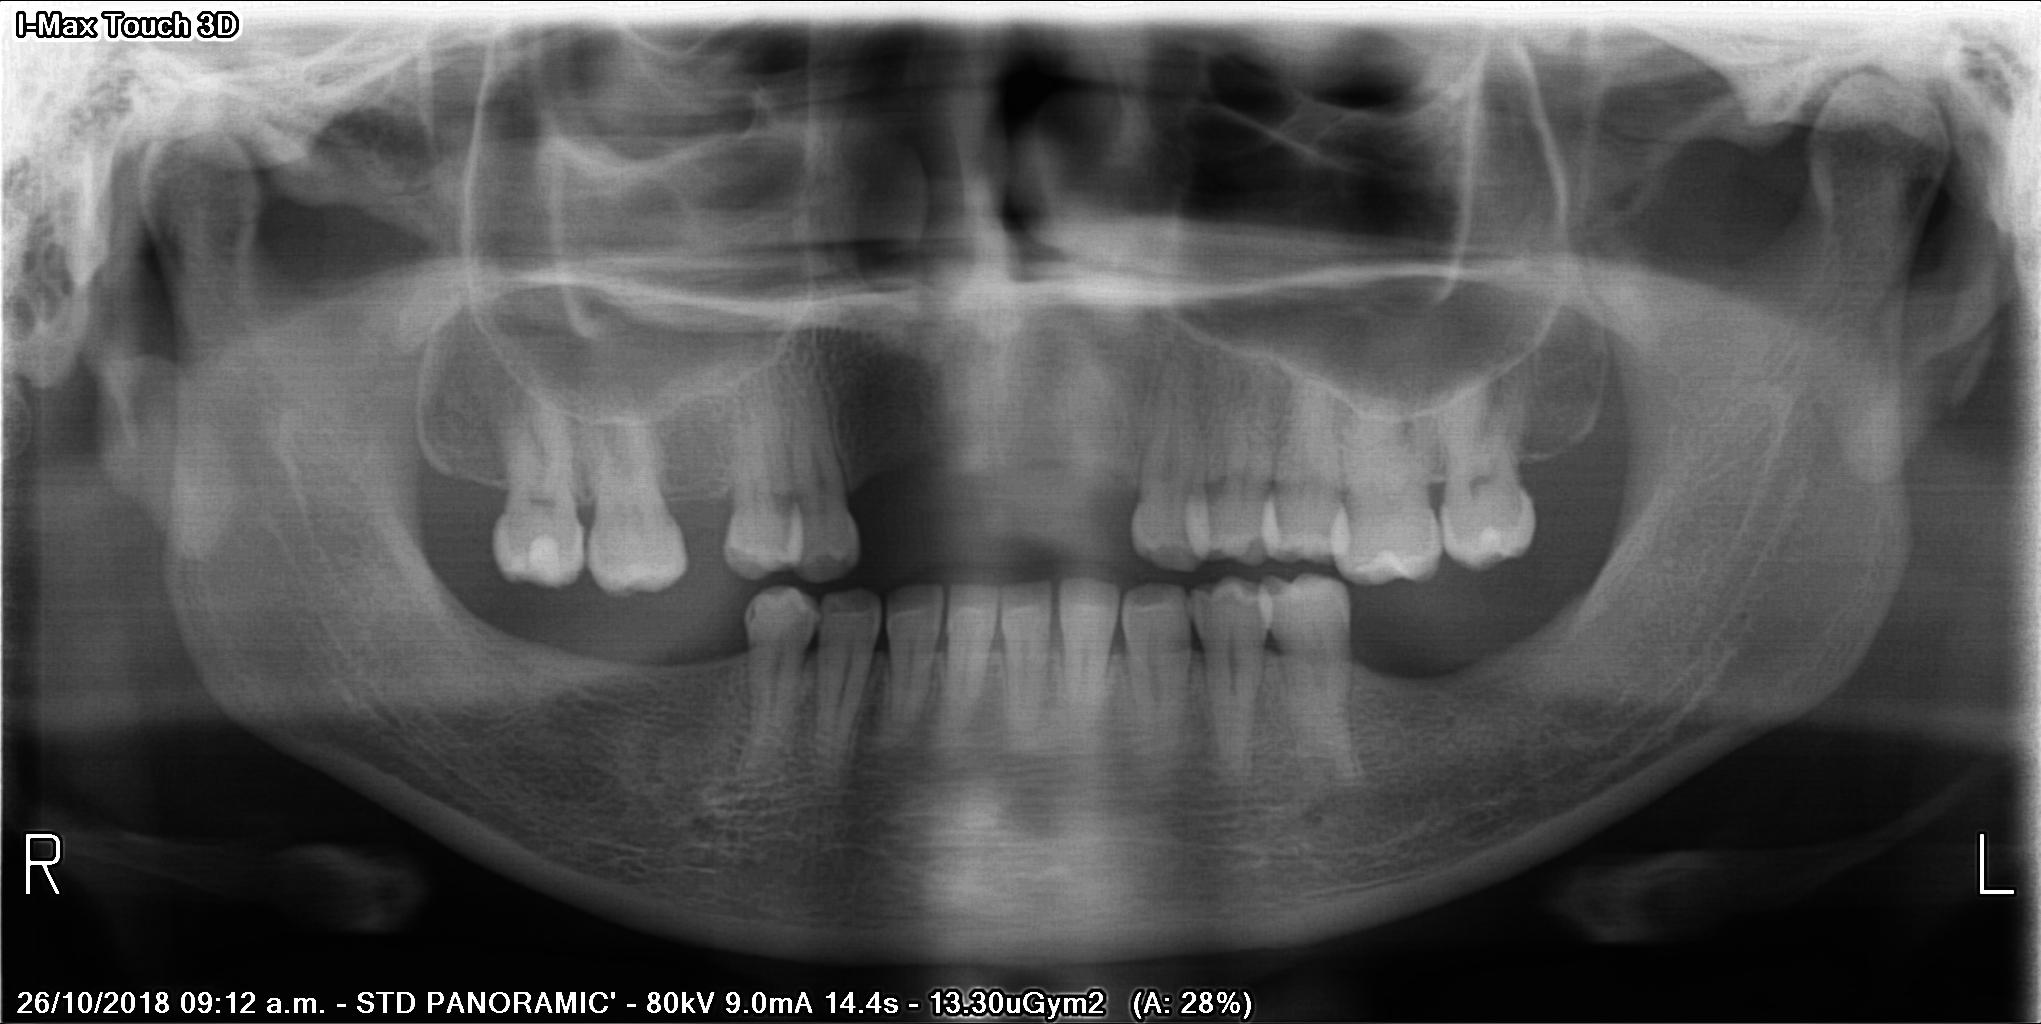Çürük Bölgesi: (738, 602, 768, 631)
